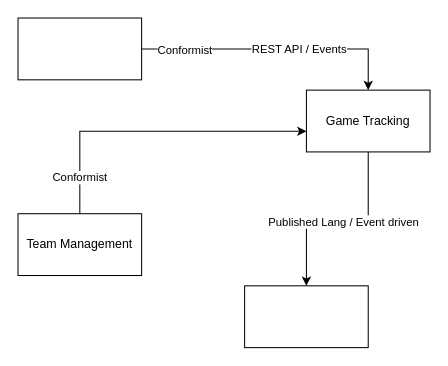
Some shapes in this 448 by 366 pixel diagram are drawn without their labels. The centre of each missing label's shape, as x and y in pixels:
"Champinoship Management" goes at (x=79, y=48).
"Statistics Analysis" goes at (x=306, y=316).
